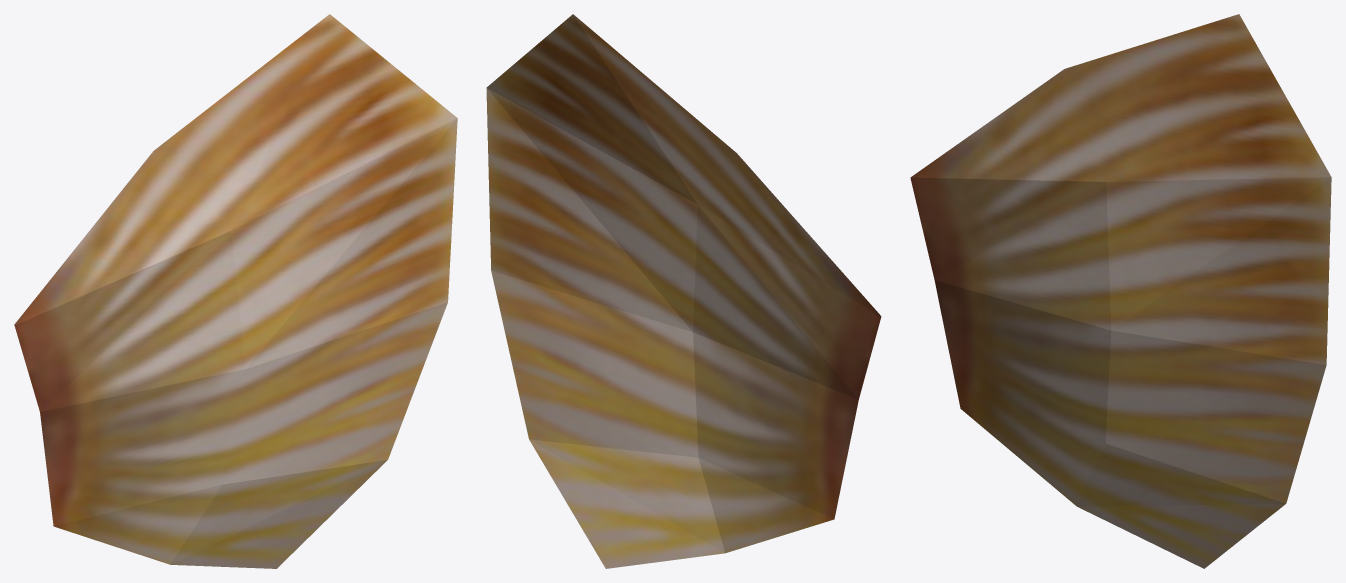
File: PufferDer.obj
3 views of the same model, side by side, from view 1: azimuth 30°, elevation 25°; view 2: azimuth 150°, elevation 25°; view 3: azimuth 330°, elevation 25° (orthographic). The views are drawn at different scales.
Visible parts, largest first — view 1: PufferIzq:AletaIzq; view 2: PufferIzq:AletaIzq; view 3: PufferIzq:AletaIzq.
Boxes of the visible parts, x1,y1,x2,y2 form: PufferIzq:AletaIzq: (14,14,457,568); PufferIzq:AletaIzq: (486,14,881,568); PufferIzq:AletaIzq: (910,14,1331,568).
Bounding box in the file's own units: 0.1272 × 0.1581 × 0.0152.
Materials: 2 (2 with a texture image).
